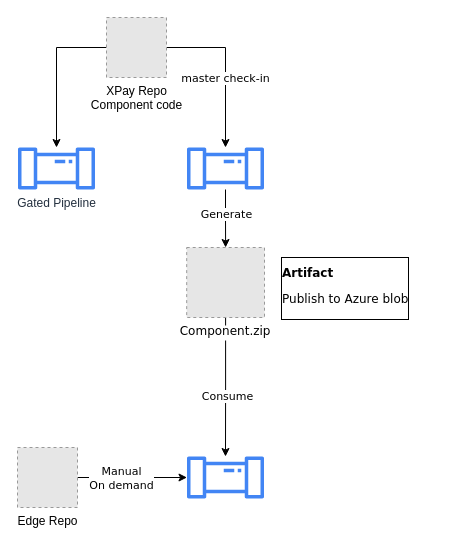
This 455x546 diagram has some shape labels left out. Grey dashed boxes stand in for pictures. The shapes that lost their labels are listed below. From the top down, each one's centre as x and y in pixels, then its label:
the point at 225,168: CI Pipeline
the point at 225,477: CRX Build Pipeline
